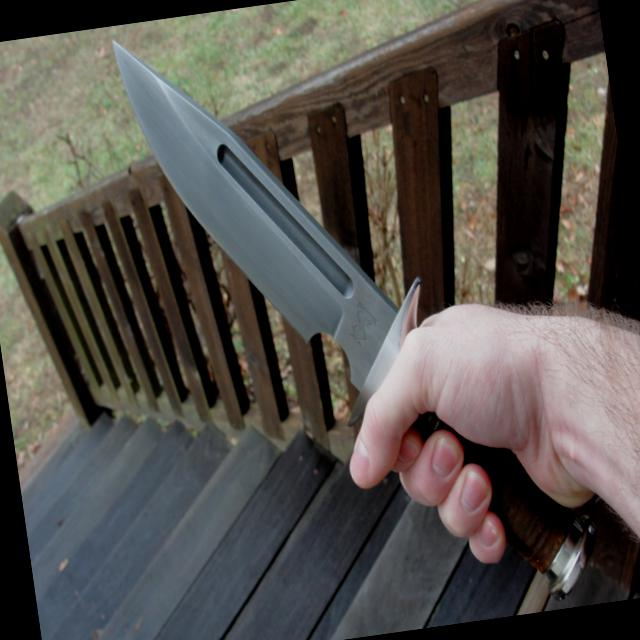knife: (100, 0, 495, 554)
